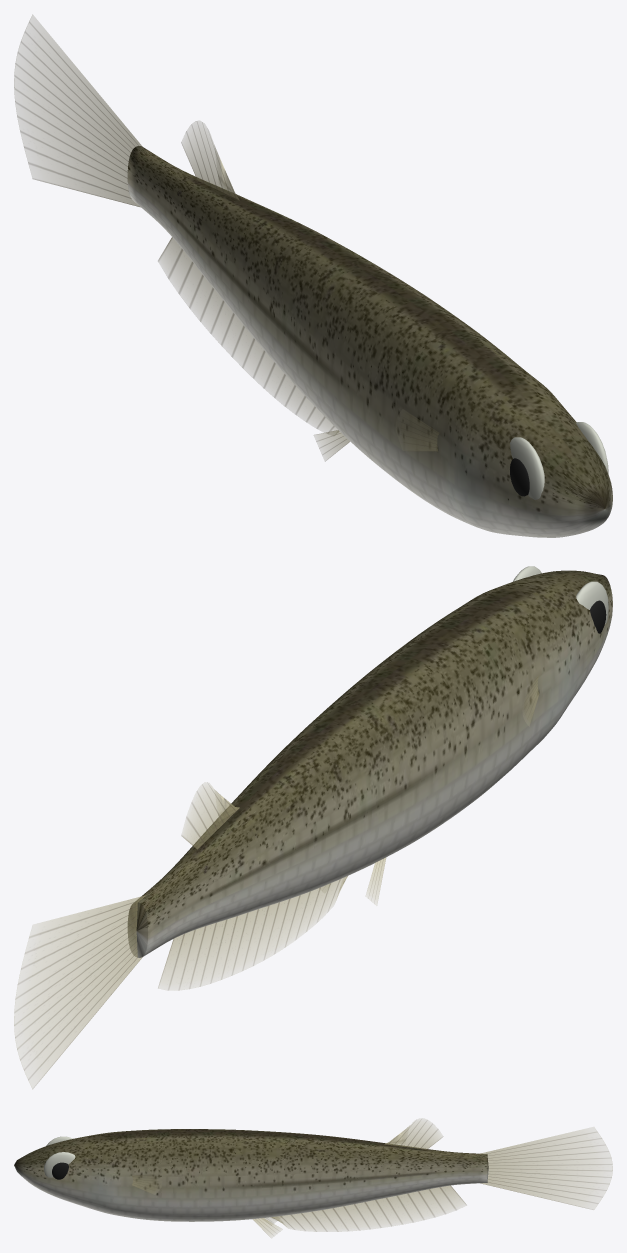
File: medaka.glb
3 views of the same model, one above another, from view 1: azimuth 30°, elevation 25°; view 2: azimuth 150°, elevation 25°; view 3: azimuth 270°, elevation 25° (orthographic). The views are drawn at different scales.
Visible parts, largest first — view 1: body, fins, iris; view 2: body, fins, iris; view 3: body, fins, iris, pupil.
Part boxes in pixels (bbox=[...]): body: bbox=[127, 146, 612, 537]; fins: bbox=[14, 14, 438, 461]; iris: bbox=[510, 422, 608, 500]; body: bbox=[128, 570, 612, 957]; fins: bbox=[14, 676, 539, 1089]; iris: bbox=[513, 566, 608, 623]; body: bbox=[14, 1129, 488, 1221]; fins: bbox=[132, 1118, 612, 1237]; iris: bbox=[44, 1136, 75, 1177]; pupil: bbox=[52, 1162, 68, 1179].
Size of the model in its own units: 0.125 by 0.2126 by 1.01.
4 materials, 2 textured.
